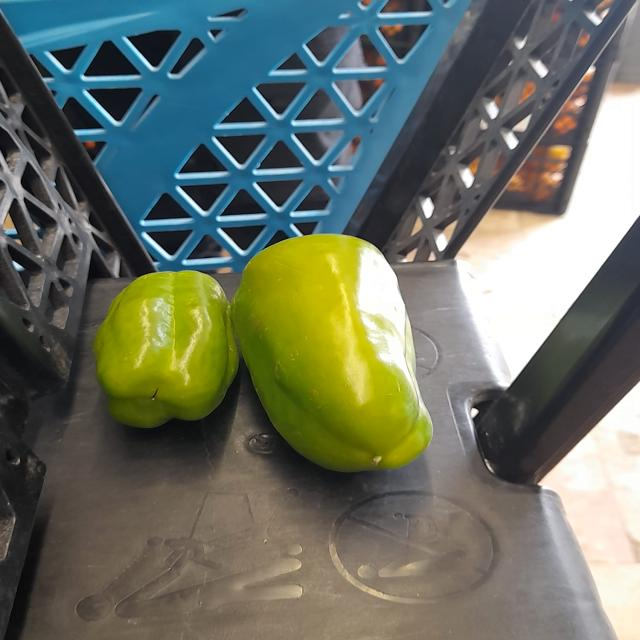bell pepper: (220, 222, 440, 481), (78, 254, 245, 430)
